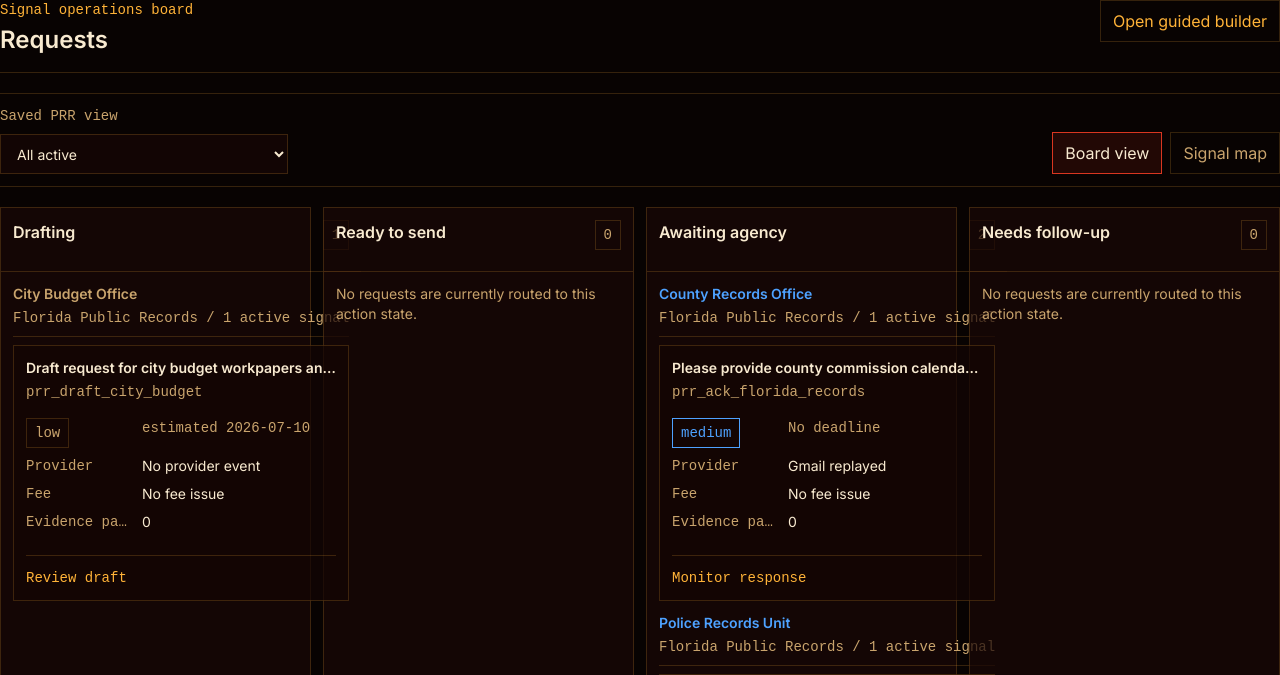
it: RequestSignalMap › renders the signal map for the selected PRR view mode
Click the button "Signal map". click: x=1225, y=153
box: [1170,132,1279,174]
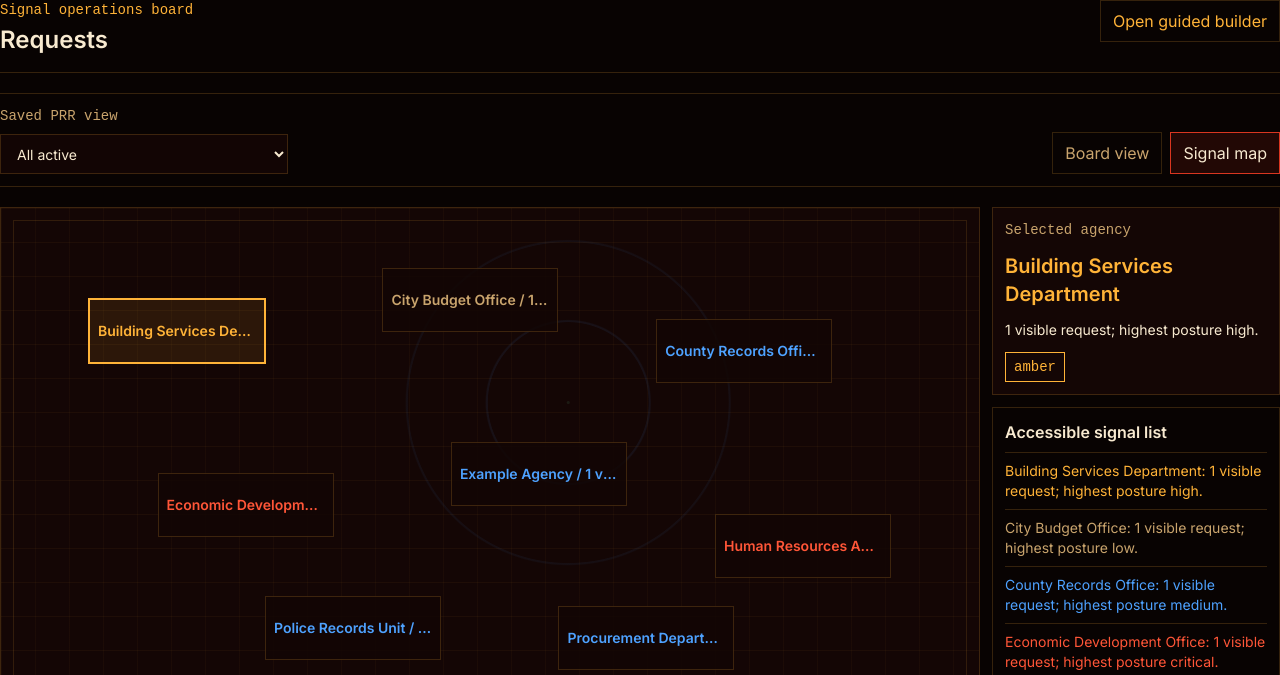
expect the text "Building Services Department" is shown: met, box [98,322,300,339]
expect the text "highest posture high" is shown: met, box [312,322,572,339]
